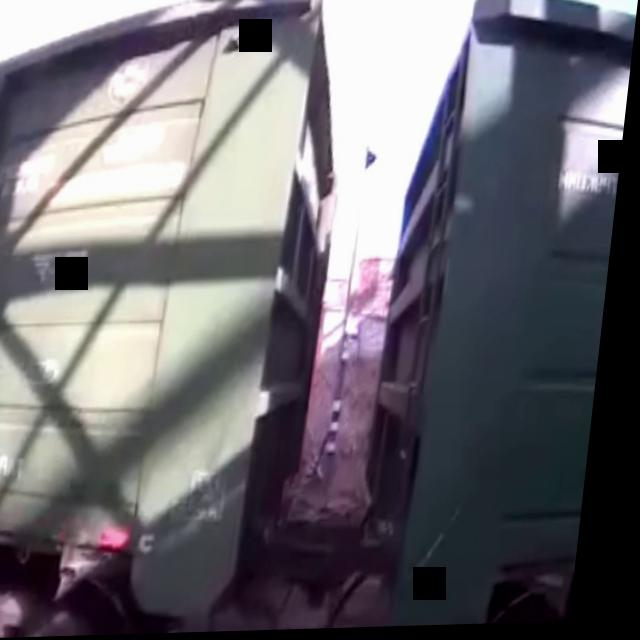gondola: (0, 0, 371, 640), (351, 0, 640, 631)
